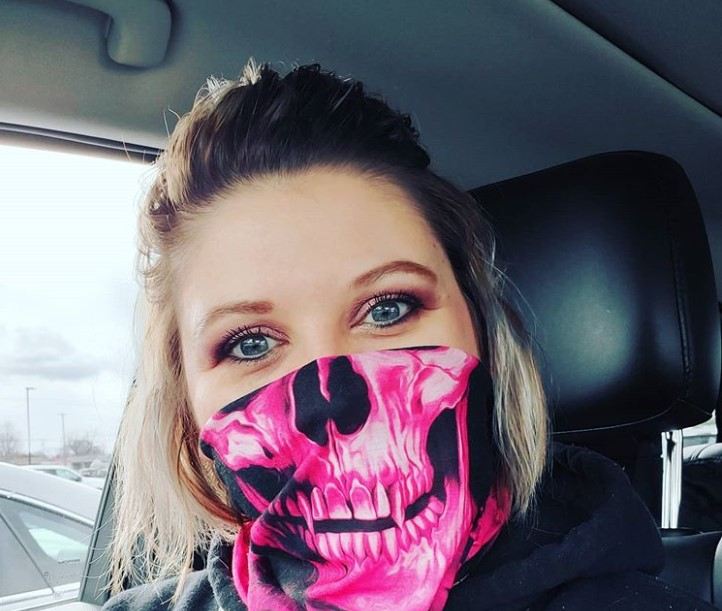face_with_mask: (159, 89, 490, 586)
